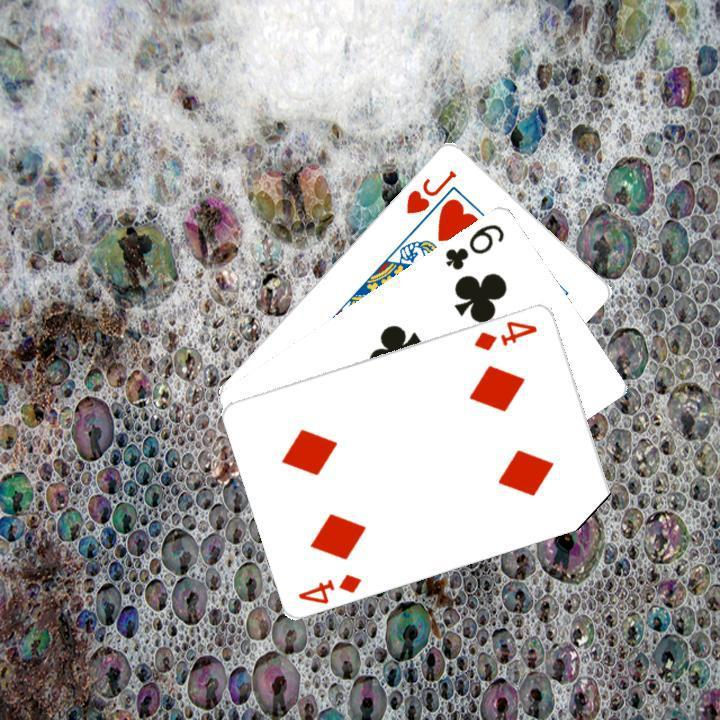4: (470, 316, 540, 352), (294, 569, 364, 605)
6: (440, 218, 507, 272)
J: (401, 165, 459, 216)
